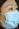with_mask: (1, 2, 19, 29)
